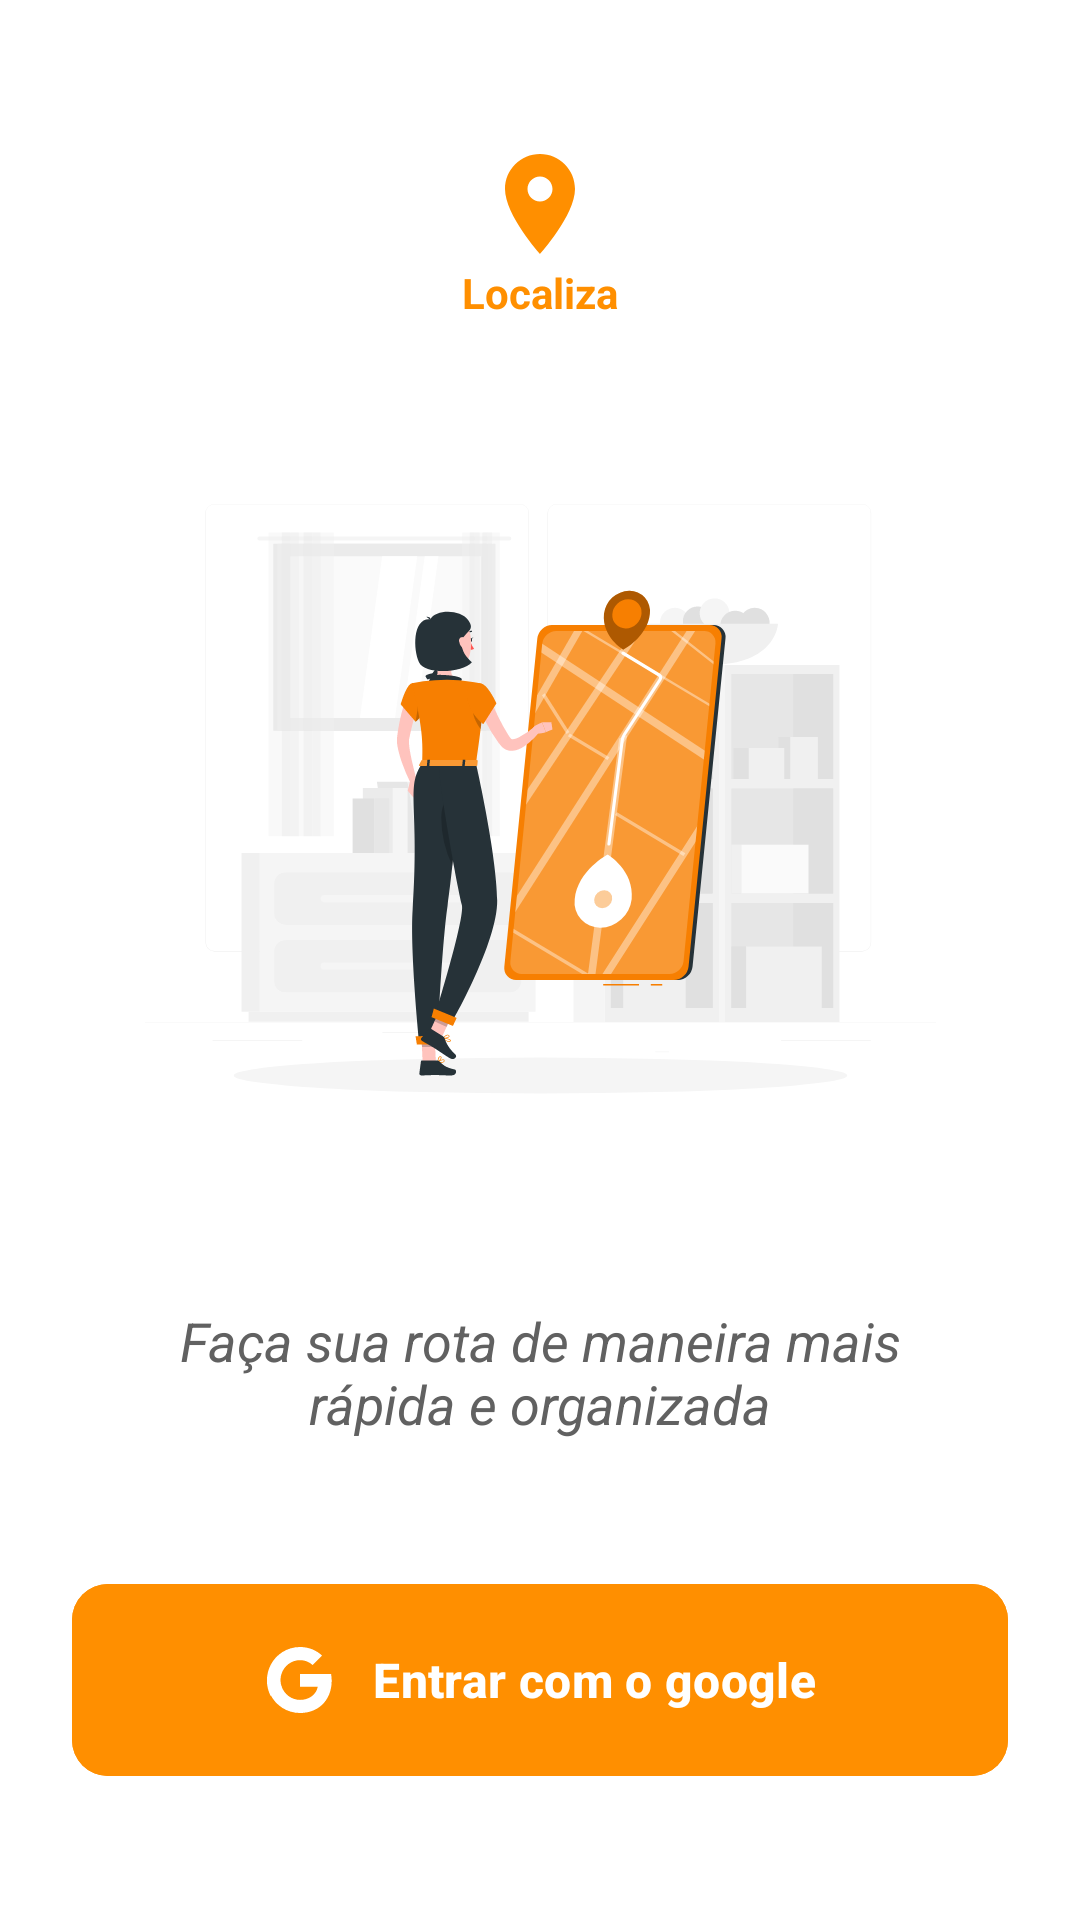

Named icons in this screenshot (1080w x 1920h) and their centers, (x=x, y=y):
location pin: (x=540, y=204)
